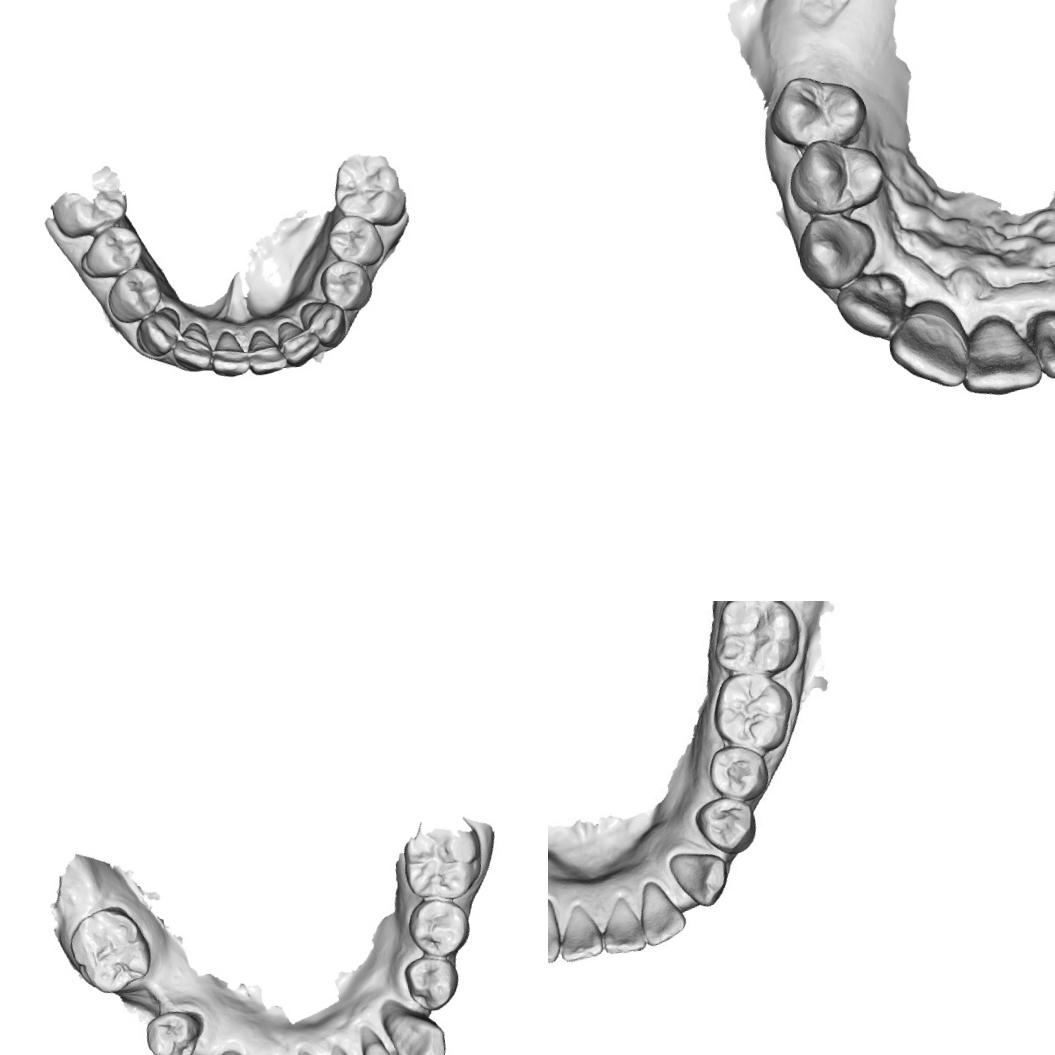canine: (793, 204, 880, 292), (669, 843, 736, 910), (385, 1001, 451, 1055), (130, 304, 186, 360), (298, 296, 350, 352)
incisor: (881, 301, 978, 398), (960, 308, 1046, 400), (832, 268, 912, 350), (636, 875, 689, 951), (598, 892, 650, 958), (552, 900, 604, 966), (166, 318, 216, 376), (274, 316, 324, 370), (241, 325, 288, 377), (206, 328, 250, 380), (1030, 301, 1055, 385), (358, 1032, 417, 1055), (548, 897, 563, 970)
molar: (64, 900, 158, 1000), (707, 660, 799, 755), (707, 601, 807, 677), (398, 824, 488, 903), (328, 148, 410, 234)
premolar: (760, 65, 874, 155), (781, 130, 886, 220), (402, 892, 475, 960), (75, 222, 148, 282), (400, 950, 466, 1015), (707, 740, 772, 806), (694, 792, 761, 856), (322, 209, 388, 273), (102, 264, 166, 327), (314, 255, 373, 315), (140, 1005, 210, 1055)
